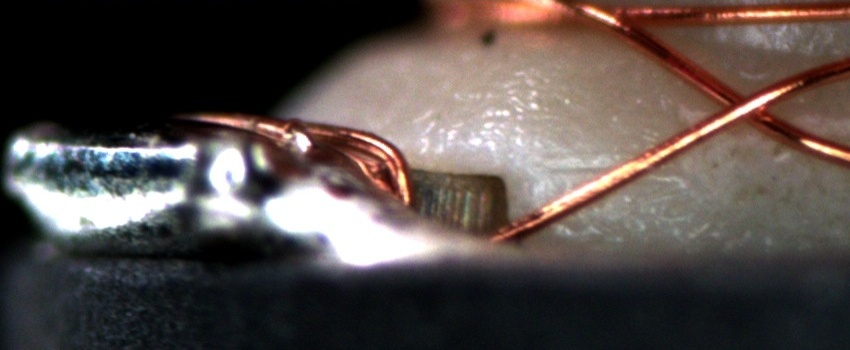CL: (698, 76, 790, 134)
DL: (532, 143, 663, 196)
TE: (177, 103, 434, 221)
